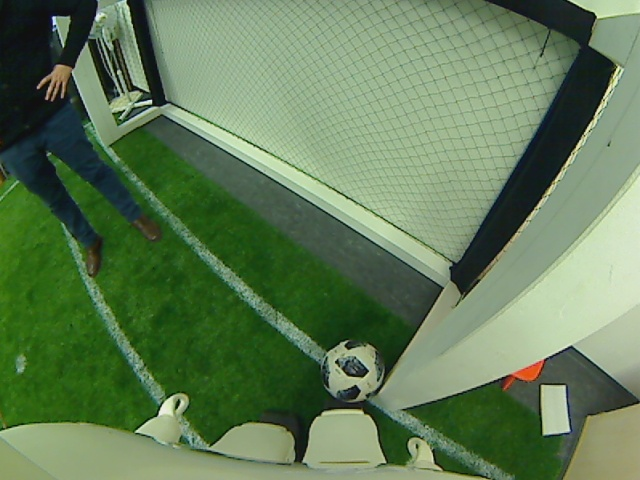ball: (319, 340, 382, 405)
